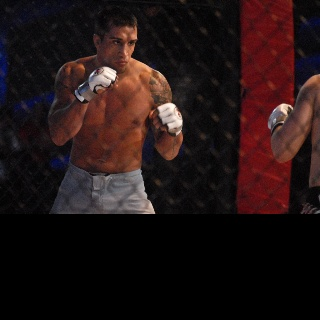without_mask: (99, 25, 139, 72)
